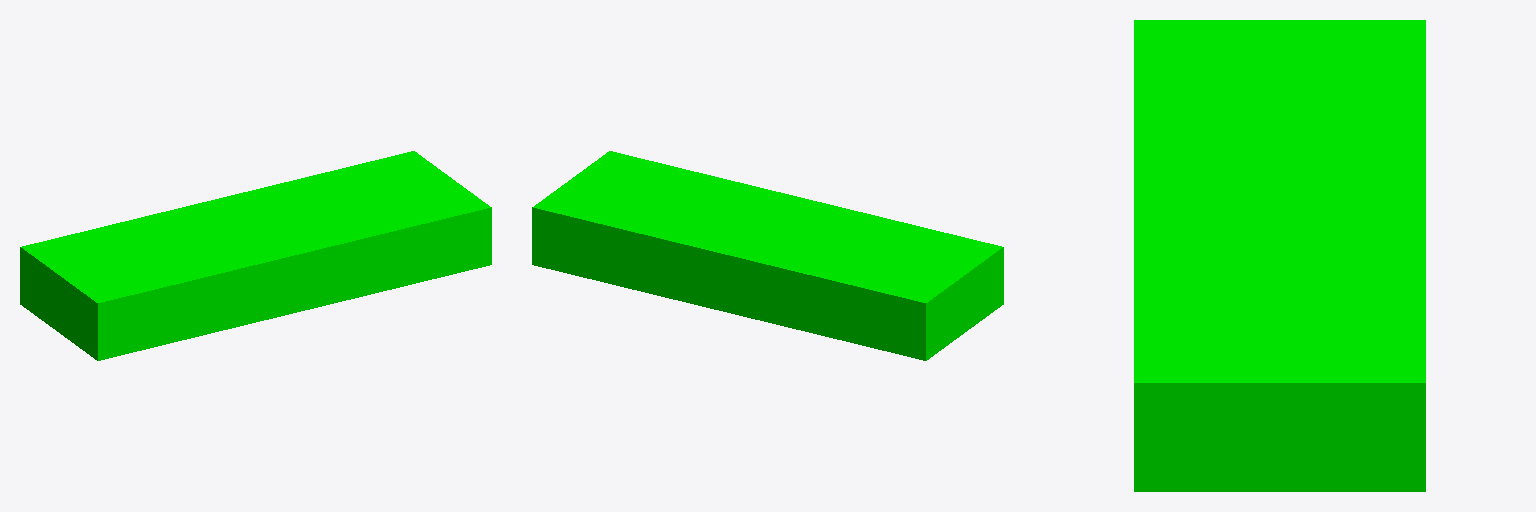
The robot description file, URDF, robot "slate.urdf":
<?xml version="0.0" ?>
<robot name="slate.urdf">
  <link name="baseLink">
    <contact>
      <lateral_friction value="1.0"/>
      <inertia_scaling value="3.0"/>
    </contact>
    <inertial>
      <origin rpy="0 0 0" xyz="0 0 0"/>
       <mass value=".25"/>
       <inertia ixx="1" ixy="0" ixz="0" iyy="1" iyz="0" izz="1"/>
    </inertial>
    <visual>
      <origin rpy="0 0 0" xyz="0 0 0"/>
      <geometry>
				<mesh filename="slate.obj" scale=".25 .085 .035"/>
      </geometry>
       <material name="green">
        <color rgba="0 1 0 1"/>
      </material>
    </visual>
    <collision>
      <origin rpy="0 0 0" xyz="0 0 0"/>
      <geometry>
	 	<box size=".25 .085 .035"/>
      </geometry>
    </collision>
  </link>
</robot>

--- Render facts (derived) ---
3 views of the same robot in one strip: view 1: azimuth 30°, elevation 25°; view 2: azimuth 150°, elevation 25°; view 3: azimuth 270°, elevation 25° (orthographic).
Robot: slate.urdf — 1 links, 0 joints (none); root link baseLink; default pose: all joints at 0.
Visible links, largest first — view 1: baseLink; view 2: baseLink; view 3: baseLink.
Boxes of the visible links, x1,y1,x2,y2 form: baseLink: (20,151,491,360); baseLink: (532,151,1003,360); baseLink: (1134,20,1425,491).
Size in the robot's own frame: 0.25 by 0.085 by 0.035 metres.
1 mesh visuals loaded from 1 distinct referenced files (1 OBJ).